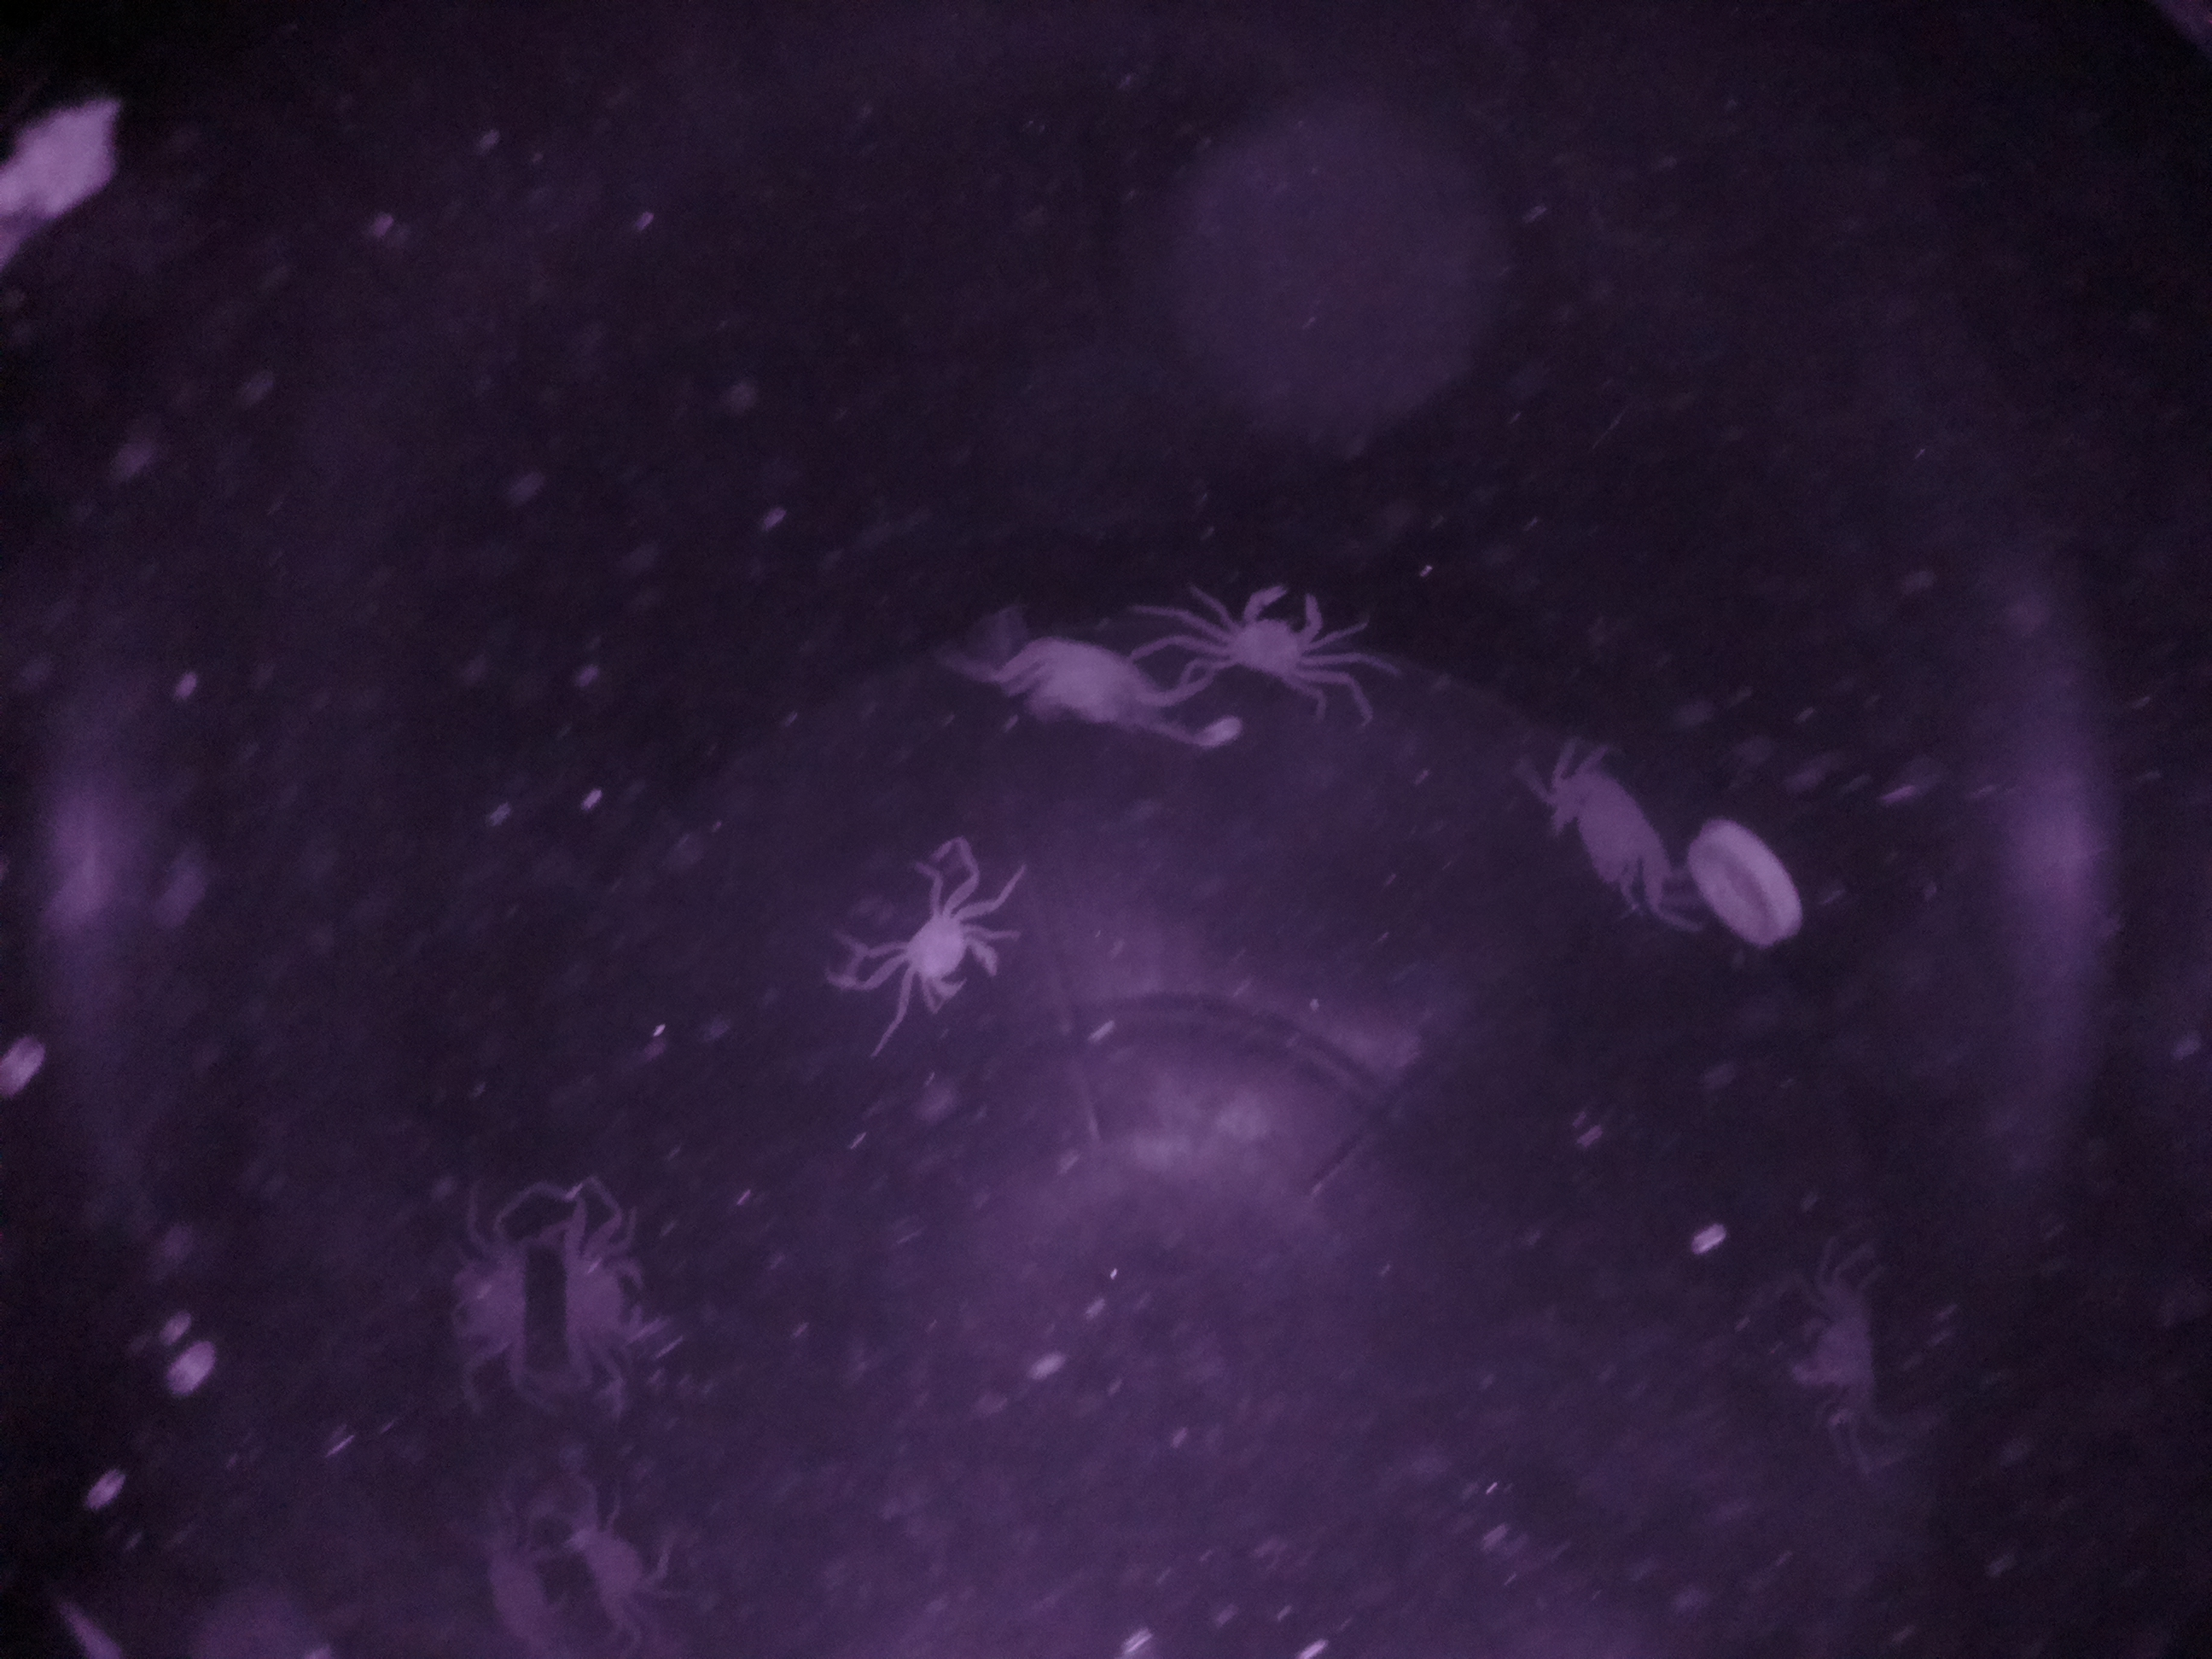Crab: (1186, 561, 1345, 732), (554, 1204, 679, 1415), (434, 1199, 540, 1406), (883, 873, 1012, 1037)
